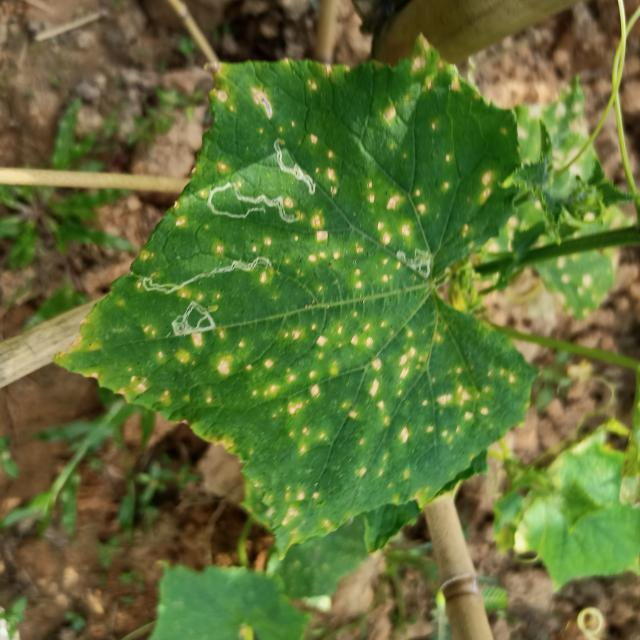disease_cucumber: (82, 295, 506, 509), (363, 142, 475, 248), (301, 201, 400, 294), (383, 30, 462, 127), (206, 80, 296, 135), (206, 226, 300, 263), (306, 128, 344, 198), (306, 56, 352, 97), (477, 162, 495, 207)
